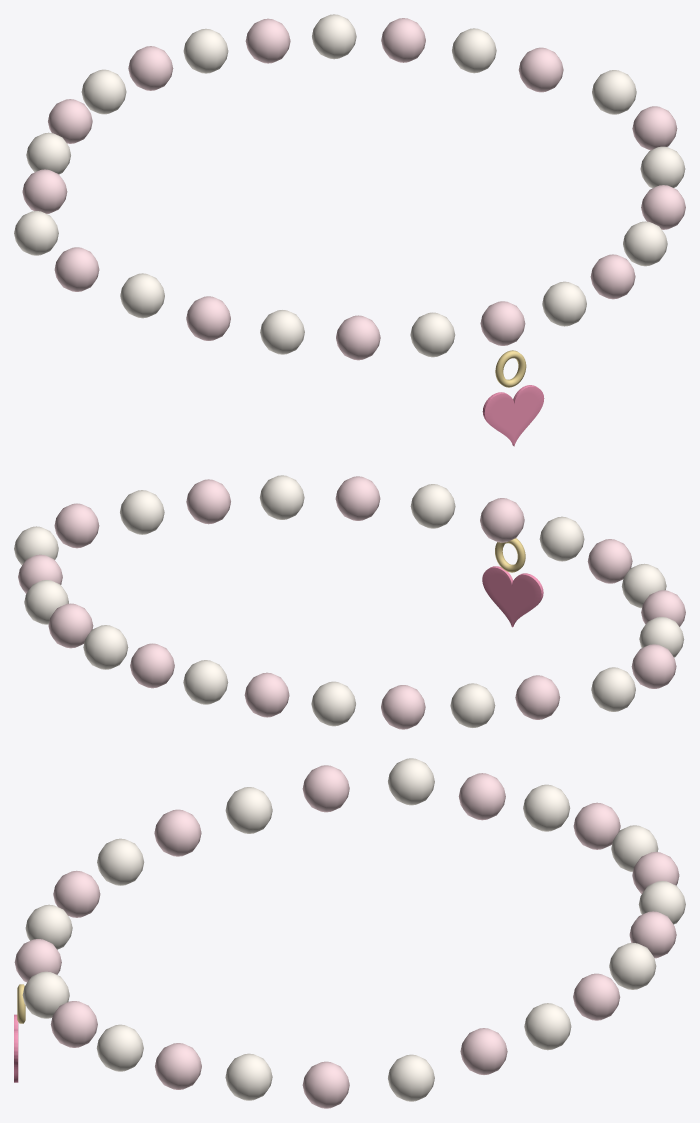
File: necklace_heart_chick_tailored.glb
3 renders of one model, top to bottom at view 1: azimuth 30°, elevation 25°; view 2: azimuth 150°, elevation 25°; view 3: azimuth 270°, elevation 25°, orthographic. The views are drawn at different scales.
Visible parts, largest first — view 1: Corazón bordado.007, Perla.103, Perla.080, Perla.098, Perla.099, Perla.090, Perla.101, Perla.079, Perla.086, Perla.087, Perla.089, Perla.093 (+16 smaller); view 2: Corazón bordado.007, Perla.089, Perla.090, Perla.096, Perla.097, Perla.078, Perla.079, Perla.080, Perla.081, Perla.091, Perla.092, Perla.093 (+16 smaller); view 3: Perla.098, Perla.100, Perla.083, Perla.084, Perla.081, Perla.087, Perla.096, Perla.082, Perla.088, Perla.085, Perla.099, Perla.101 (+14 smaller).
Part boxes in pixels (left/top/right/bottom): Corazón bordado.007: left=482, top=385, right=544, bottom=446; Perla.103: left=410, top=312, right=455, bottom=357; Perla.080: left=590, top=254, right=635, bottom=299; Perla.098: left=54, top=247, right=99, bottom=291; Perla.099: left=120, top=273, right=164, bottom=318; Perla.090: left=245, top=18, right=290, bottom=63; Perla.101: left=260, top=310, right=304, bottom=354; Perla.079: left=542, top=281, right=586, bottom=326; Perla.086: left=518, top=47, right=563, bottom=92; Perla.087: left=452, top=28, right=496, bottom=73; Perla.089: left=312, top=14, right=356, bottom=59; Perla.093: left=81, top=69, right=126, bottom=114; Corazón bordado.007: left=482, top=566, right=543, bottom=627; Perla.089: left=83, top=625, right=128, bottom=669; Perla.090: left=130, top=643, right=174, bottom=688; Perla.096: left=515, top=675, right=560, bottom=719; Perla.097: left=591, top=667, right=635, bottom=711; Perla.078: left=480, top=498, right=524, bottom=542; Perla.079: left=410, top=484, right=455, bottom=528; Perla.080: left=335, top=476, right=380, bottom=520; Perla.081: left=259, top=475, right=304, bottom=519; Perla.091: left=183, top=660, right=228, bottom=704; Perla.092: left=244, top=672, right=289, bottom=717; Perla.093: left=311, top=681, right=355, bottom=726; Perla.098: left=302, top=765, right=349, bottom=812; Perla.100: left=154, top=809, right=201, bottom=856; Perla.083: left=225, top=1053, right=272, bottom=1100; Perla.084: left=302, top=1061, right=349, bottom=1108; Perla.081: left=96, top=1024, right=143, bottom=1071; Perla.087: left=524, top=1003, right=571, bottom=1050; Perla.096: left=458, top=773, right=505, bottom=820; Perla.082: left=155, top=1043, right=201, bottom=1089; Perla.088: left=573, top=973, right=620, bottom=1020; Perla.085: left=388, top=1054, right=434, bottom=1101; Perla.099: left=225, top=787, right=272, bottom=833; Perla.101: left=97, top=838, right=144, bottom=885.
Bounding box in the file's own units: 0.5387 × 0.1586 × 0.4837.
